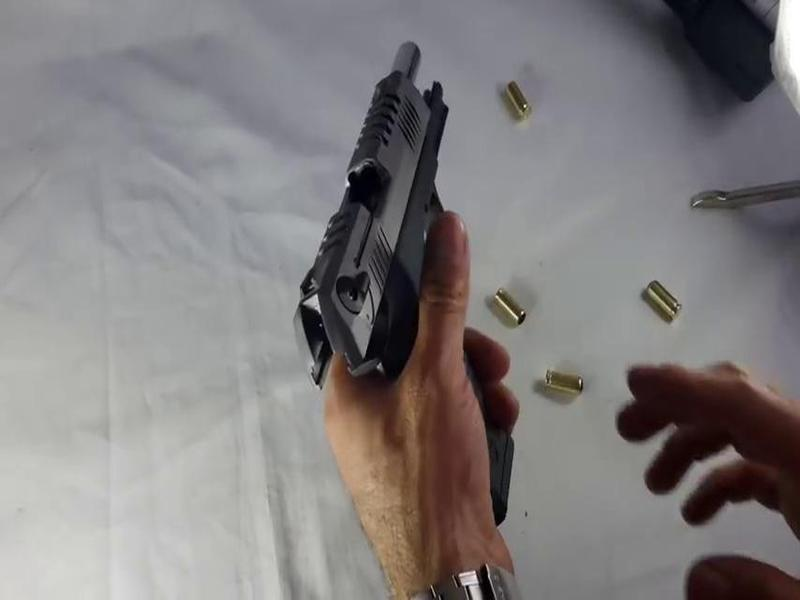Pistola: (296, 9, 503, 458)
